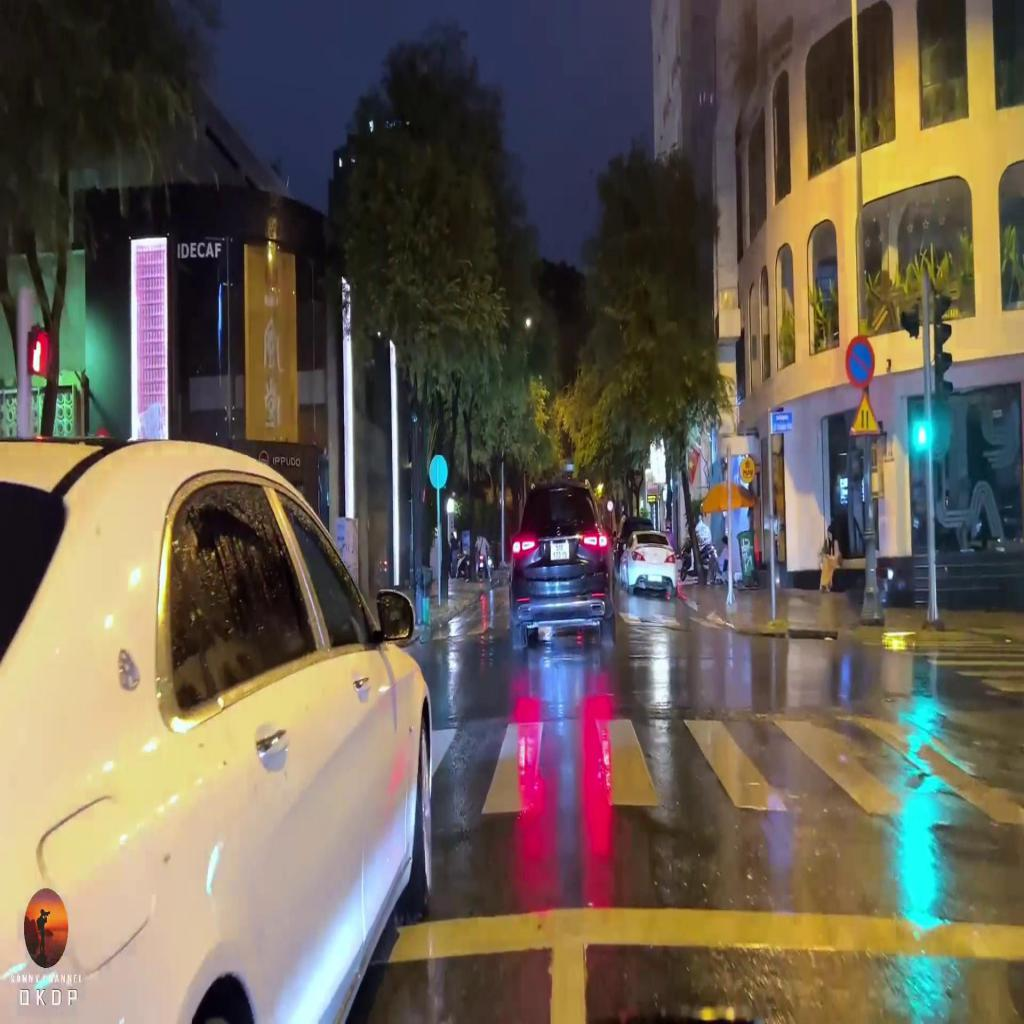cam_do_xe: (845, 334, 875, 388)
khac: (849, 390, 880, 435)
